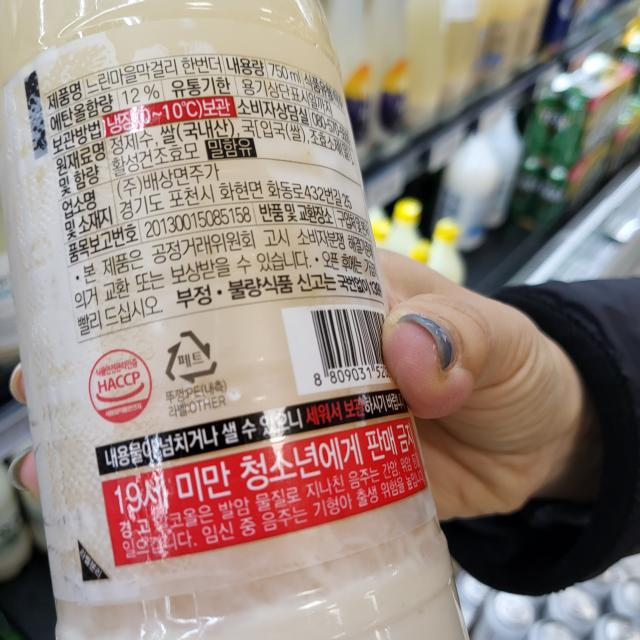PET: (165, 327, 217, 387)
